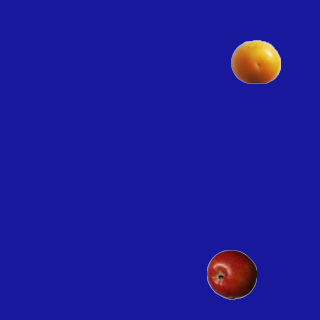Apple Braeburn: (206, 249, 256, 299)
Cherry Wax Yellow: (230, 36, 280, 86)
